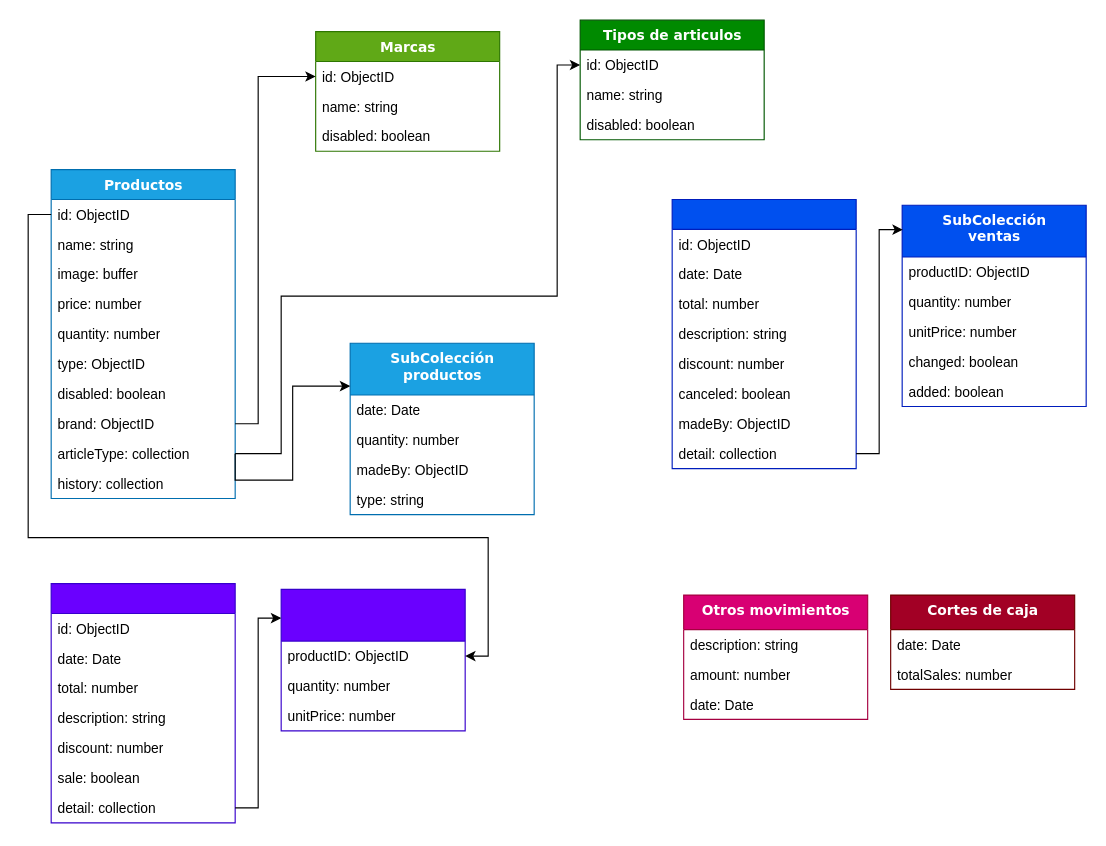
Image size: 1106x846. Some labels were removed from this diagram. Here are the shapes that lost their labels. From the top down, the box of each, then its label:
(671, 198, 856, 469): Ventas
(280, 588, 465, 731): SubColección cotizaciones
(50, 582, 235, 823): Cotizaciones
